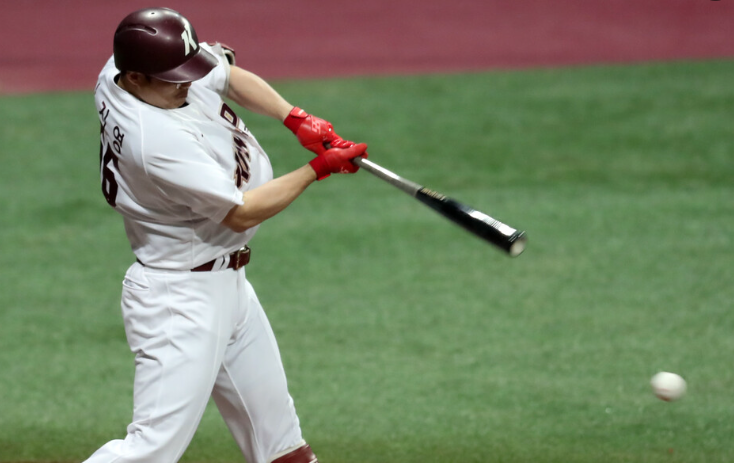ball: (648, 370, 689, 402)
